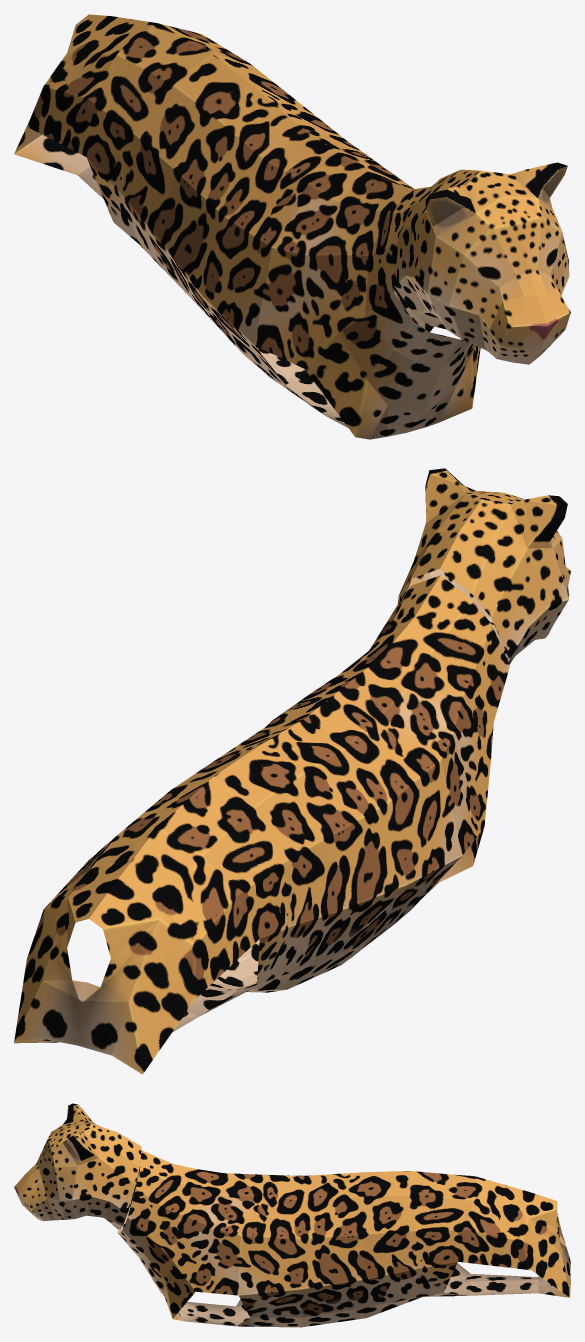
The model's file is CuerpoJa.fbx.
3 views of the same model, one above another, from view 1: azimuth 30°, elevation 25°; view 2: azimuth 150°, elevation 25°; view 3: azimuth 270°, elevation 25° (orthographic). The views are drawn at different scales.
Parts seen in each view (by area): view 1: Jaguar.006; view 2: Jaguar.006; view 3: Jaguar.006.
Boxes of the visible parts, <box> form: Jaguar.006: <box>14,14,570,439</box>; Jaguar.006: <box>14,468,570,1074</box>; Jaguar.006: <box>14,1103,570,1327</box>.
Bounding box in the file's own units: 251 × 394 × 989.
